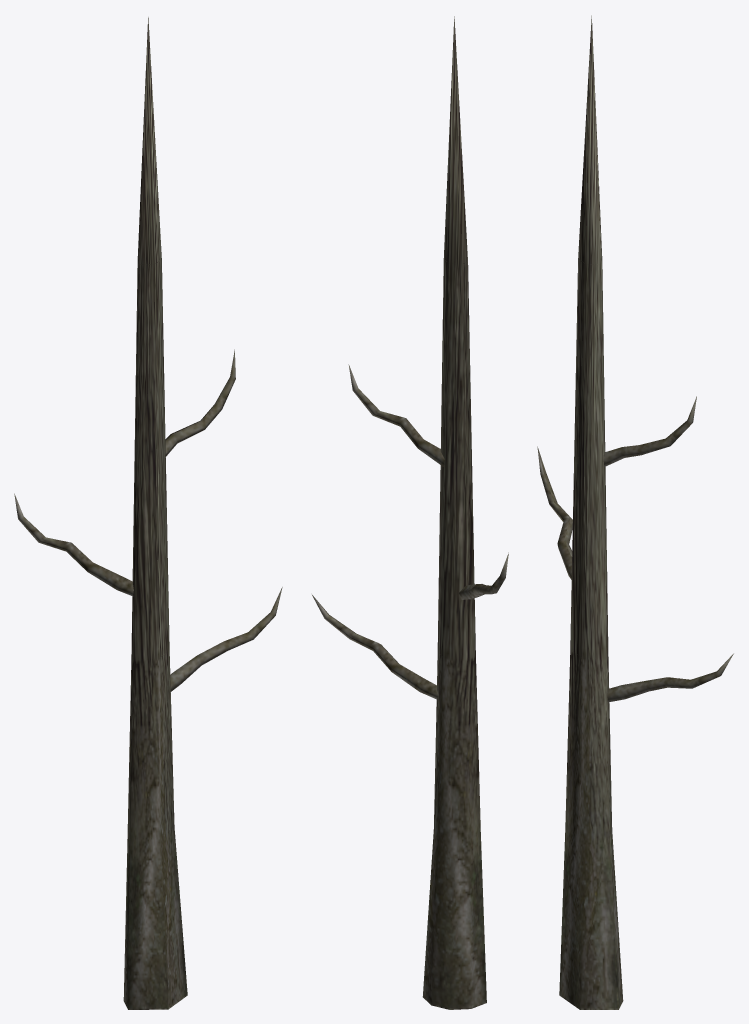
Rendered from tree_k003.FBX.
The picture shows the model from 3 angles, left to right: view 1: azimuth 30°, elevation 25°; view 2: azimuth 150°, elevation 25°; view 3: azimuth 330°, elevation 25°; orthographic projection.
Parts seen in each view (by area): view 1: tree_k003; view 2: tree_k003; view 3: tree_k003.
Part boxes in pixels (x1,y1,x2,y2): tree_k003: (14, 17, 282, 1009); tree_k003: (312, 16, 508, 1009); tree_k003: (537, 15, 733, 1009).
Bounding box in the file's own units: 3.07 × 12.38 × 1.29.
1 material, 1 textured.
